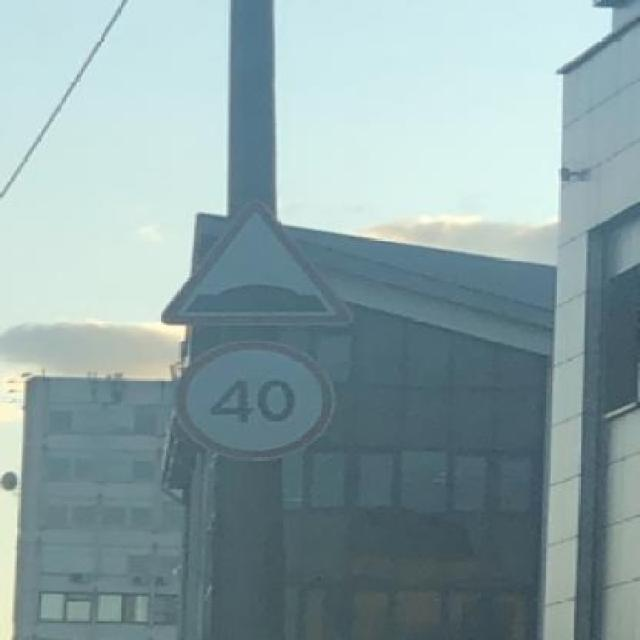forb_speed_over_40: (180, 342, 332, 458)
